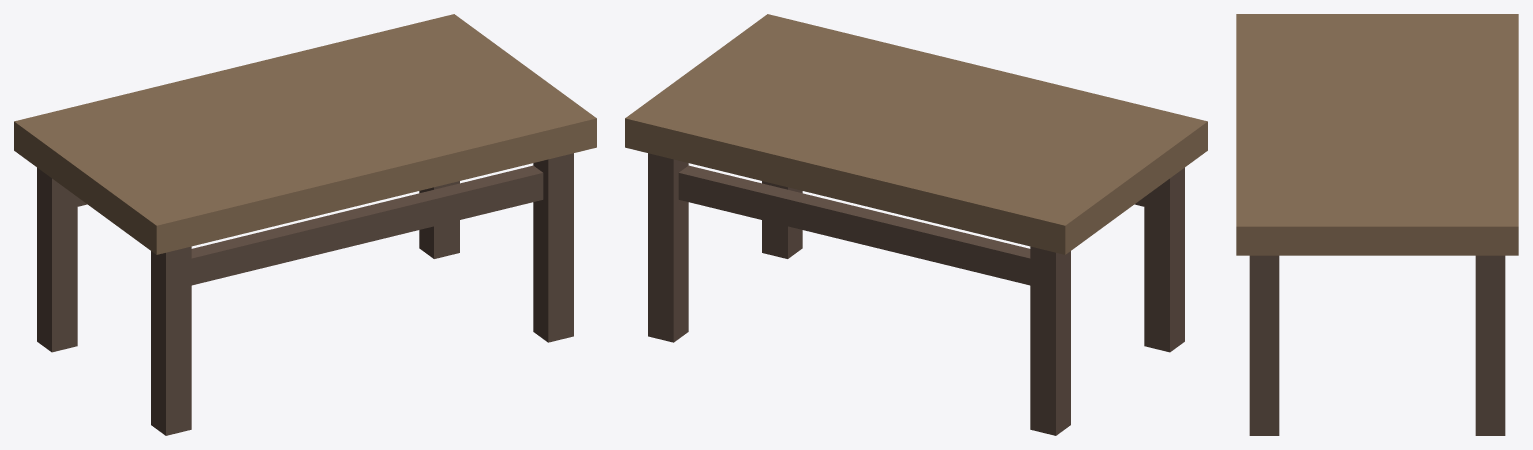
Rendered from dining_table_hero_pbr_orm.glb.
3 renders of one model, left to right at view 1: azimuth 30°, elevation 25°; view 2: azimuth 150°, elevation 25°; view 3: azimuth 270°, elevation 25°, orthographic.
Visible parts, largest first — view 1: geometry_0; view 2: geometry_0; view 3: geometry_0.
Boxes of the visible parts, <box> form: geometry_0: <box>14,14,596,435</box>; geometry_0: <box>625,14,1207,435</box>; geometry_0: <box>1236,14,1518,435</box>.
Size of the model in its own units: 2.05 by 0.975 by 1.15.
